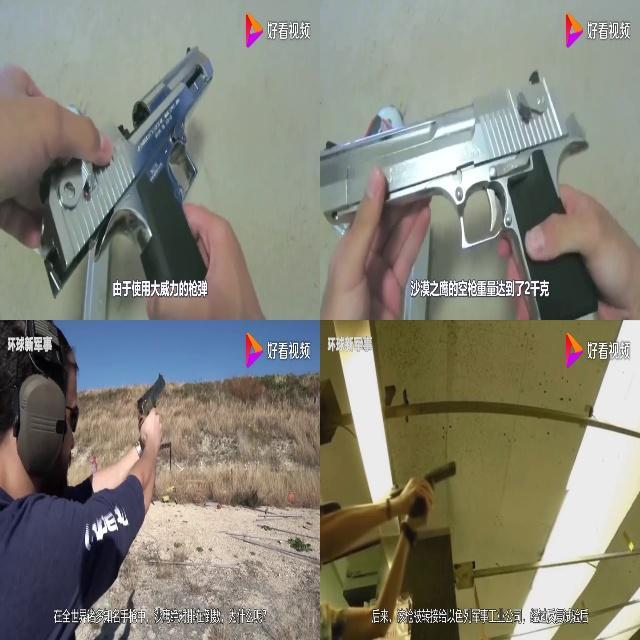gun-knife-thesis - v11 Yolov5 augmented: (322, 69, 594, 319), (30, 21, 239, 299), (394, 454, 456, 519), (138, 375, 167, 446)
